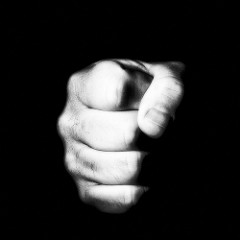fist: (66, 54, 192, 220)
